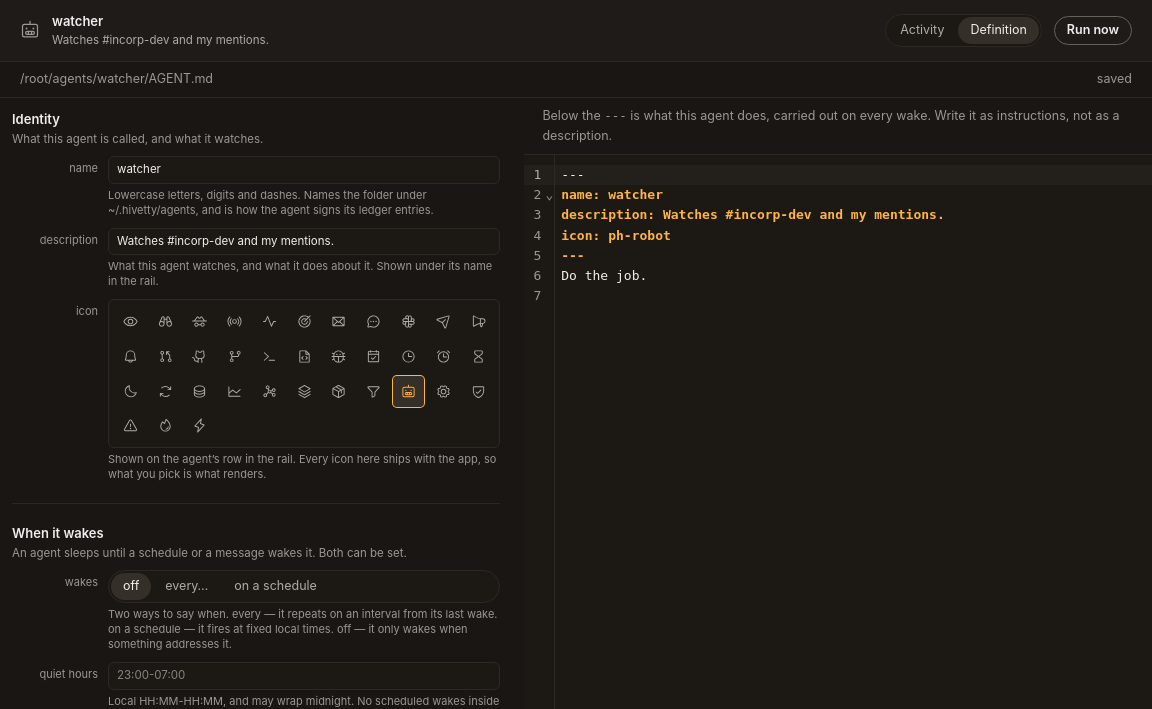
Scenario: AgentPage — the header › switching does not lose an unsaved buffer
The width and height of the screenshot is (1152, 709).
Expected: the field named "name" is shown, [108,156,500,184]
Type "!" into the field named "description".
click(304, 241); type("!")  # box [108,228,500,255]
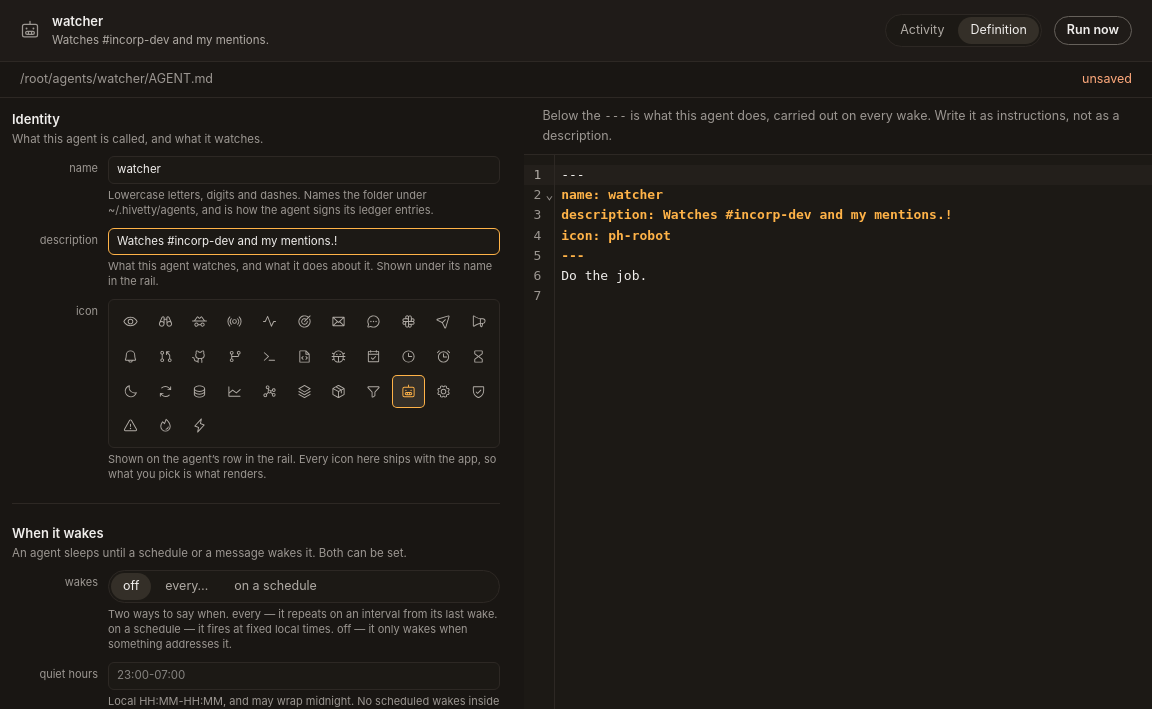
Click the radio button labelled "Activity".
click(922, 30)  # box [888,17,956,44]
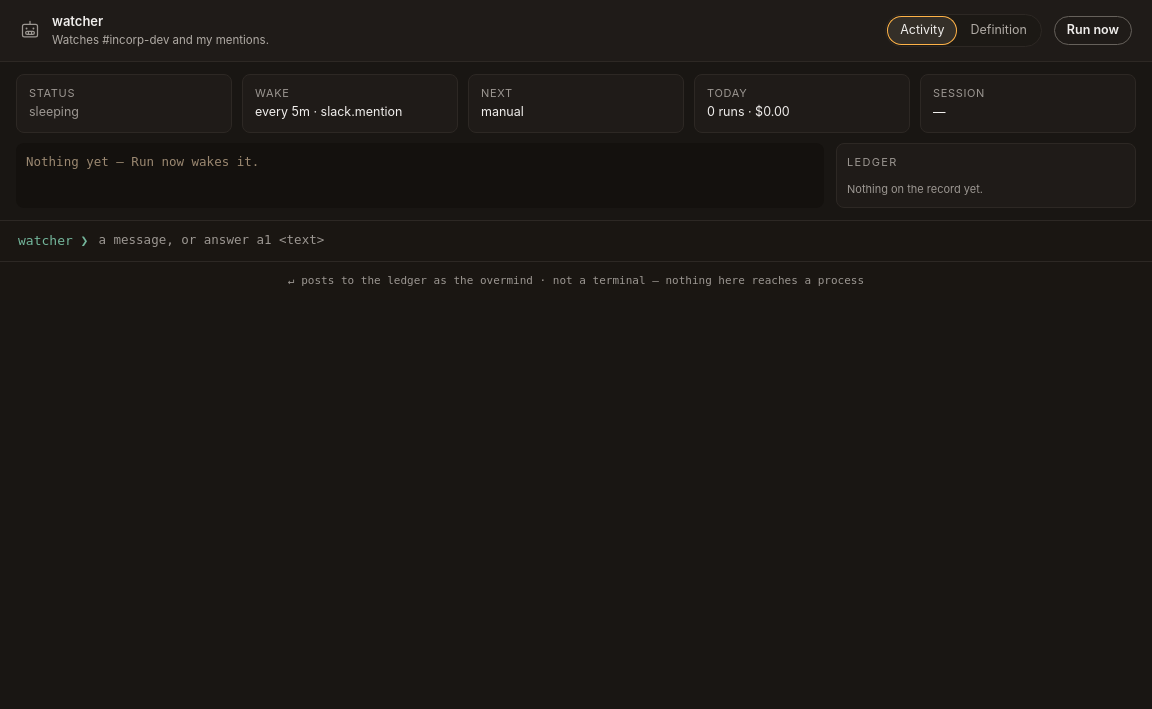
Click the radio button labelled "Definition".
click(999, 30)  # box [958,17,1039,44]
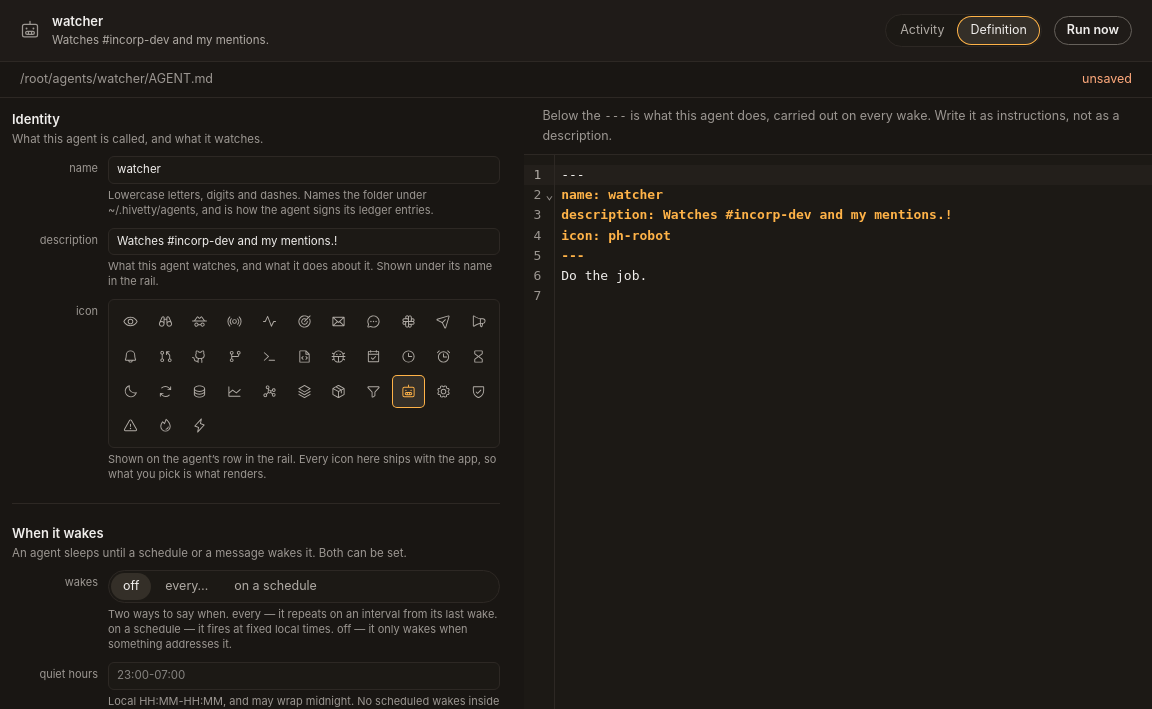
Expected: the text "unsaved" is shown, [1082,70,1132,89]
